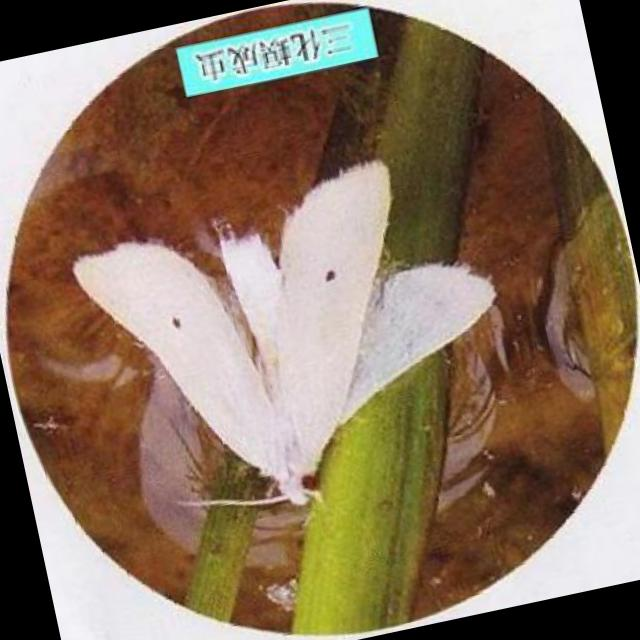stem-borer: (71, 161, 500, 508)
